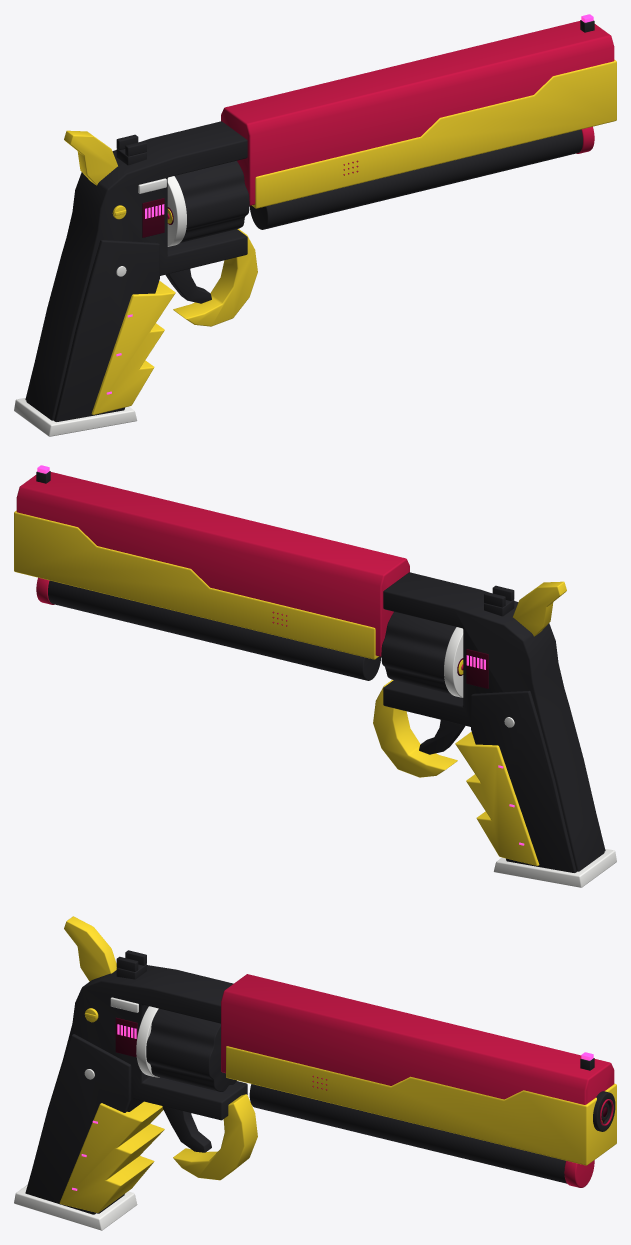
Rendered from Pistolita 2_by sebita 1.fbx.
3 renders of one model, top to bottom at view 1: azimuth 30°, elevation 25°; view 2: azimuth 150°, elevation 25°; view 3: azimuth 330°, elevation 25°, orthographic.
Parts seen in each view (by area): view 1: Canon_Nucleo, Marco, Canon_Panel_Amarillo, Cacha_Izq, Varilla_Extractora, Bloque_Agarre, Tambor, Guardamonte_Garra, Placa_Base_Empunadura, Martillo, Tambor_Anillo_Trasero, Gatillo (+1 smaller); view 2: Canon_Nucleo, Marco, Canon_Panel_Amarillo, Cacha_Der, Varilla_Extractora, Bloque_Agarre, Tambor, Guardamonte_Garra, Placa_Base_Empunadura, Martillo, Tambor_Anillo_Trasero, Gatillo (+1 smaller); view 3: Canon_Nucleo, Canon_Panel_Amarillo, Marco, Cacha_Izq, Varilla_Extractora, Bloque_Agarre, Tambor, Guardamonte_Garra, Placa_Base_Empunadura, Martillo, Gatillo, Tambor_Anillo_Trasero (+3 smaller).
Part boxes in pixels (left/top/right/bottom): Canon_Nucleo: left=221, top=21, right=614, bottom=205; Marco: left=26, top=121, right=247, bottom=420; Canon_Panel_Amarillo: left=252, top=59, right=616, bottom=208; Cacha_Izq: left=54, top=239, right=159, bottom=421; Varilla_Extractora: left=249, top=129, right=582, bottom=229; Bloque_Agarre: left=91, top=281, right=175, bottom=414; Tambor: left=174, top=160, right=249, bottom=242; Guardamonte_Garra: left=173, top=229, right=257, bottom=326; Placa_Base_Empunadura: left=14, top=398, right=137, bottom=436; Martillo: left=64, top=130, right=117, bottom=185; Tambor_Anillo_Trasero: left=167, top=176, right=186, bottom=246; Gatillo: left=165, top=269, right=211, bottom=303; Canon_Nucleo: left=16, top=472, right=409, bottom=656; Marco: left=383, top=572, right=604, bottom=871; Canon_Panel_Amarillo: left=14, top=510, right=378, bottom=659; Cacha_Der: left=471, top=690, right=576, bottom=872; Varilla_Extractora: left=48, top=580, right=381, bottom=680; Bloque_Agarre: left=455, top=732, right=539, bottom=865; Tambor: left=381, top=611, right=456, bottom=693; Guardamonte_Garra: left=373, top=680, right=457, bottom=777; Placa_Base_Empunadura: left=493, top=849, right=616, bottom=887; Martillo: left=513, top=581, right=566, bottom=636; Tambor_Anillo_Trasero: left=444, top=627, right=463, bottom=697; Gatillo: left=419, top=720, right=465, bottom=754; Canon_Nucleo: left=221, top=974, right=614, bottom=1104; Canon_Panel_Amarillo: left=226, top=1046, right=616, bottom=1165; Marco: left=34, top=965, right=247, bottom=1213; Cacha_Izq: left=25, top=1034, right=131, bottom=1214; Varilla_Extractora: left=249, top=1084, right=566, bottom=1183; Bloque_Agarre: left=59, top=1101, right=164, bottom=1212; Tambor: left=146, top=1008, right=236, bottom=1091; Guardamonte_Garra: left=173, top=1094, right=257, bottom=1180; Placa_Base_Empunadura: left=14, top=1185, right=137, bottom=1230; Martillo: left=64, top=916, right=116, bottom=981; Gatillo: left=162, top=1106, right=211, bottom=1152; Tambor_Anillo_Trasero: left=136, top=1006, right=159, bottom=1077.
Bounding box in the file's own units: 0.4181 × 0.1993 × 0.0524.
